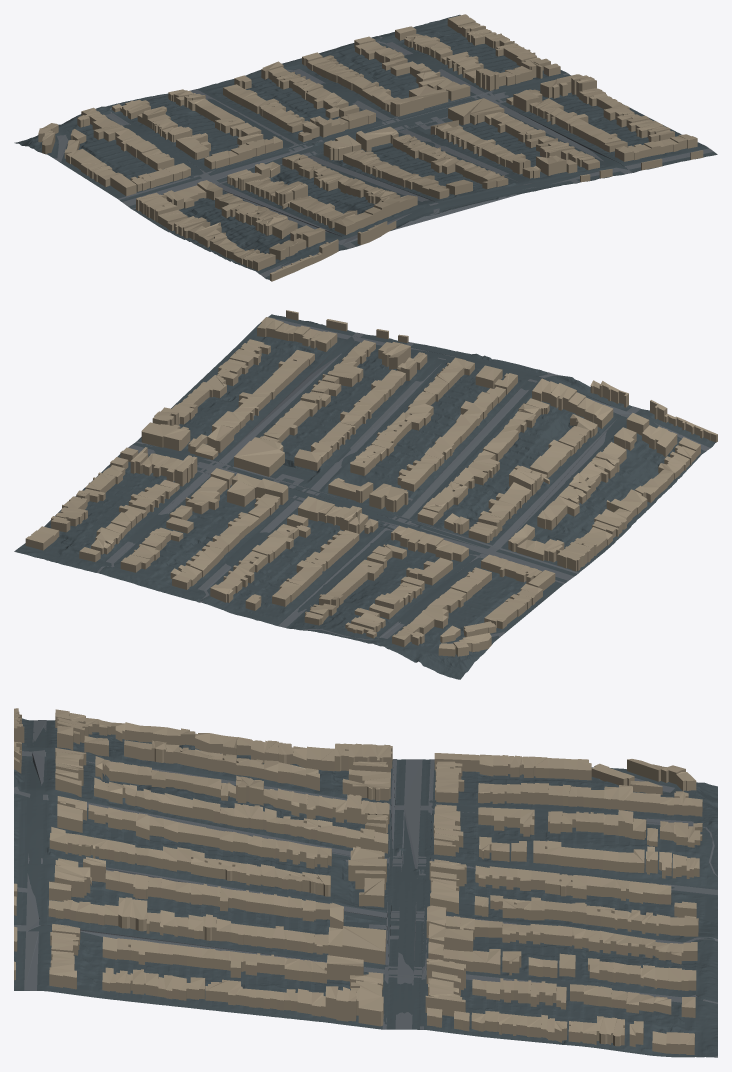
The model's file is epsg26910-1424-10870.lod0.glb.
3 views of the same model, one above another, from view 1: azimuth 30°, elevation 25°; view 2: azimuth 150°, elevation 25°; view 3: azimuth 270°, elevation 25° (orthographic). The views are drawn at different scales.
Parts seen in each view (by area): view 1: epsg26910-1424-10870-lod0; view 2: epsg26910-1424-10870-lod0; view 3: epsg26910-1424-10870-lod0.
Boxes of the visible parts, box(x1,y1,x2,y2) form: epsg26910-1424-10870-lod0: box(14, 14, 717, 281); epsg26910-1424-10870-lod0: box(14, 310, 717, 679); epsg26910-1424-10870-lod0: box(14, 708, 717, 1057).
Bounding box in the file's own units: 384 × 70.27 × 384.
